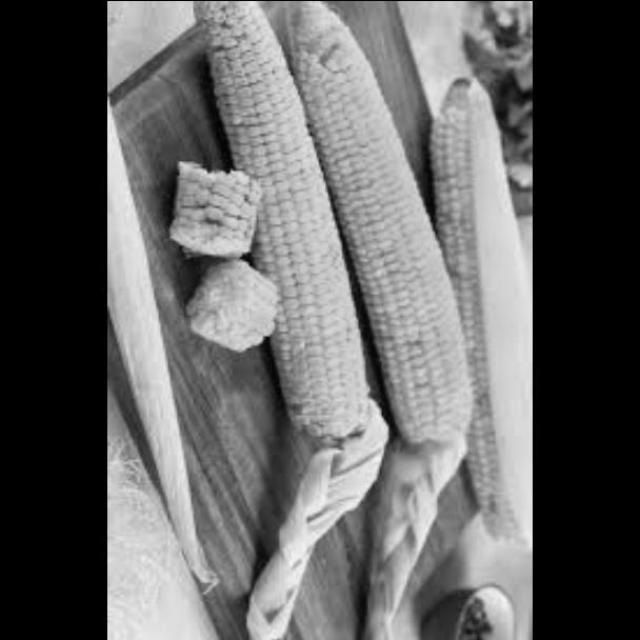ngu coc: (269, 1, 487, 457), (194, 1, 373, 452), (424, 78, 534, 549), (164, 147, 266, 264), (178, 249, 291, 349)
